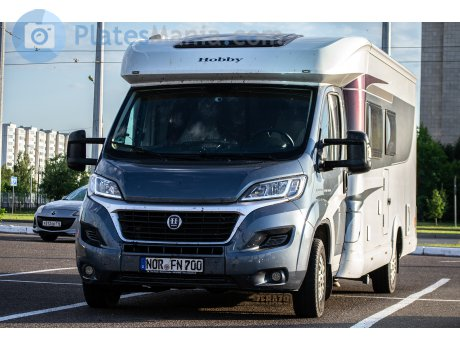License Plates: (143, 256, 203, 269)
